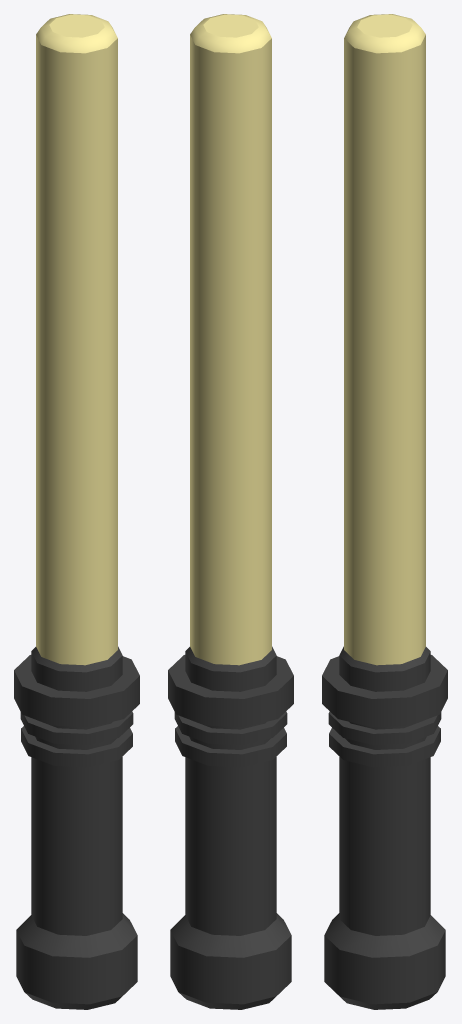
Rendered from MaSheen.FBX.
3 renders of one model, left to right at view 1: azimuth 30°, elevation 25°; view 2: azimuth 210°, elevation 25°; view 3: azimuth 330°, elevation 25°, orthographic.
Parts seen in each view (by area): view 1: light; view 2: light; view 3: light.
Part boxes in pixels (x1,y1,x2,y2): light: (14,14,139,1009); light: (168,14,293,1009); light: (322,14,447,1009).
Bounding box in the file's own units: 3.26 × 27.36 × 3.1.
